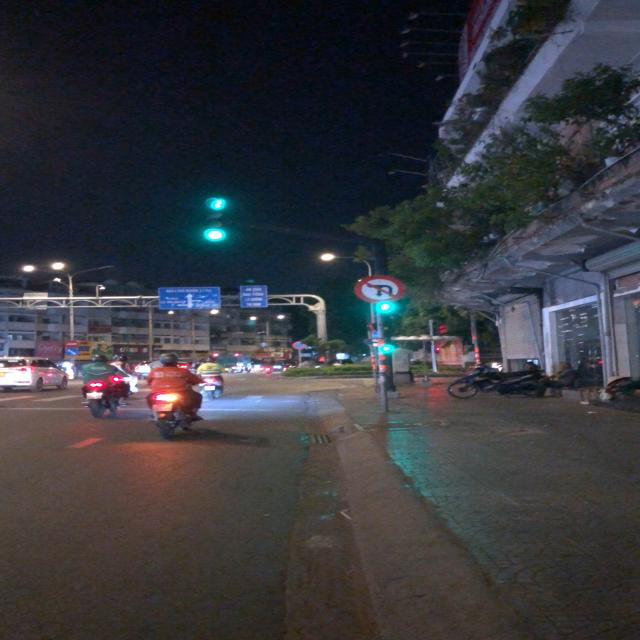Bien bao cam re trai va quay dau: (355, 274, 407, 305)
